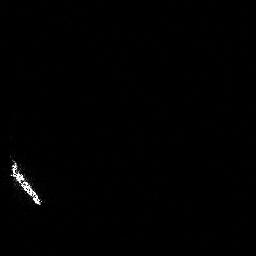ship: (8, 157, 45, 207)
